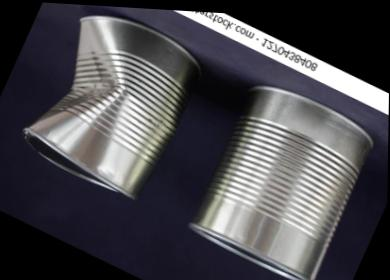metal: (0, 5, 198, 197), (191, 86, 386, 278)
